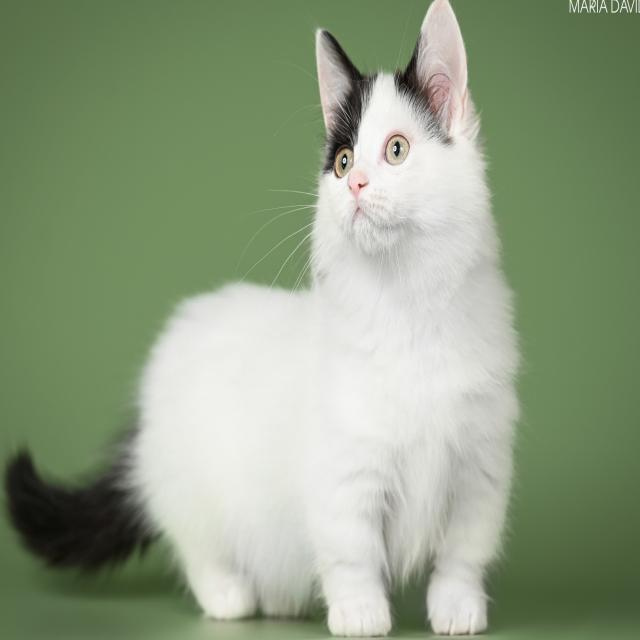Munchkin: (0, 0, 528, 640)
